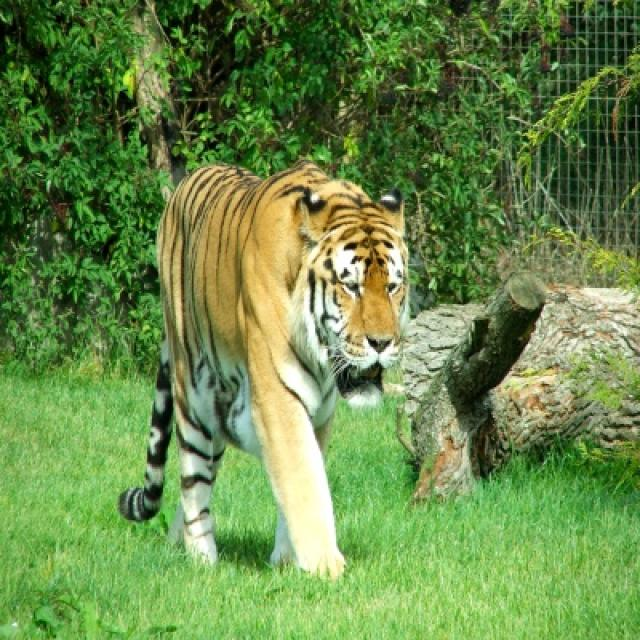Tiger: (118, 160, 417, 581)
